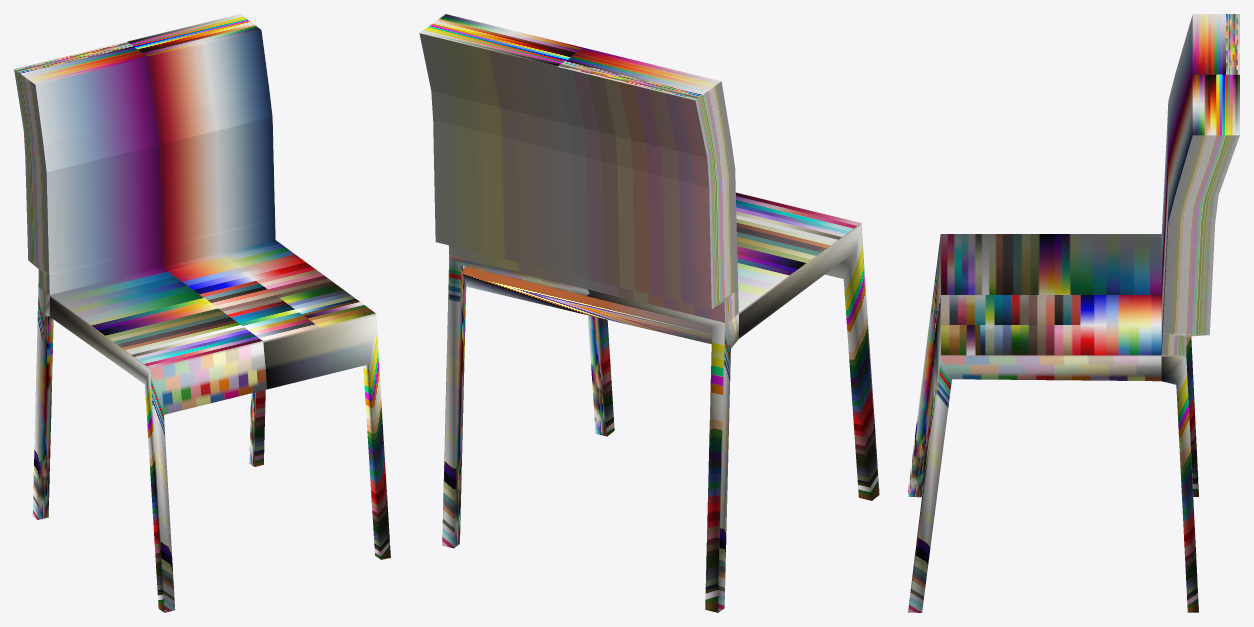
Rendered from CR_caf_Chair_001_Collider.FBX.
The picture shows the model from 3 angles, left to right: view 1: azimuth 30°, elevation 25°; view 2: azimuth 150°, elevation 25°; view 3: azimuth 270°, elevation 25°; orthographic projection. The views are drawn at different scales.
Visible parts, largest first — view 1: CR_caf_Chair_001_Collider; view 2: CR_caf_Chair_001_Collider; view 3: CR_caf_Chair_001_Collider.
Boxes of the visible parts, left/top/right/bottom form: CR_caf_Chair_001_Collider: left=14, top=14, right=390, bottom=612; CR_caf_Chair_001_Collider: left=419, top=14, right=879, bottom=612; CR_caf_Chair_001_Collider: left=908, top=14, right=1239, bottom=612.
Bounding box in the file's own units: 37.96 × 69.45 × 43.76.
